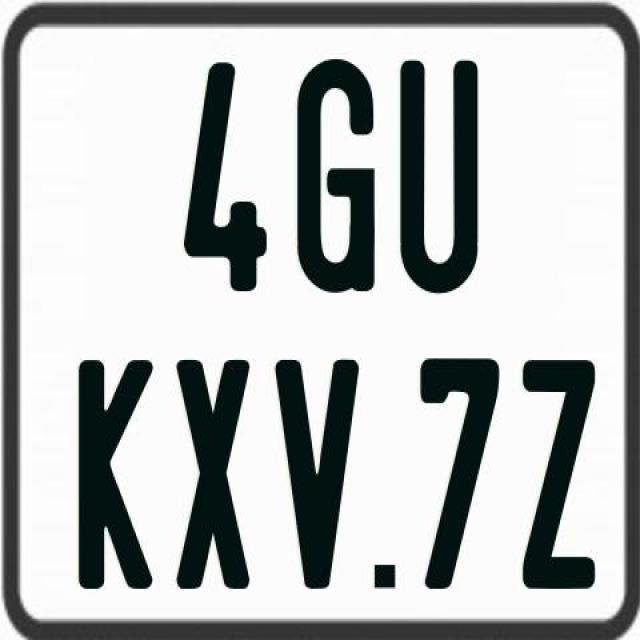4: (182, 59, 272, 294)
7: (418, 357, 502, 592)
G: (294, 56, 372, 294)
K: (77, 356, 155, 588)
U: (398, 61, 481, 294)
V: (272, 358, 360, 594)
X: (178, 357, 254, 587)
Z: (518, 355, 598, 587)
